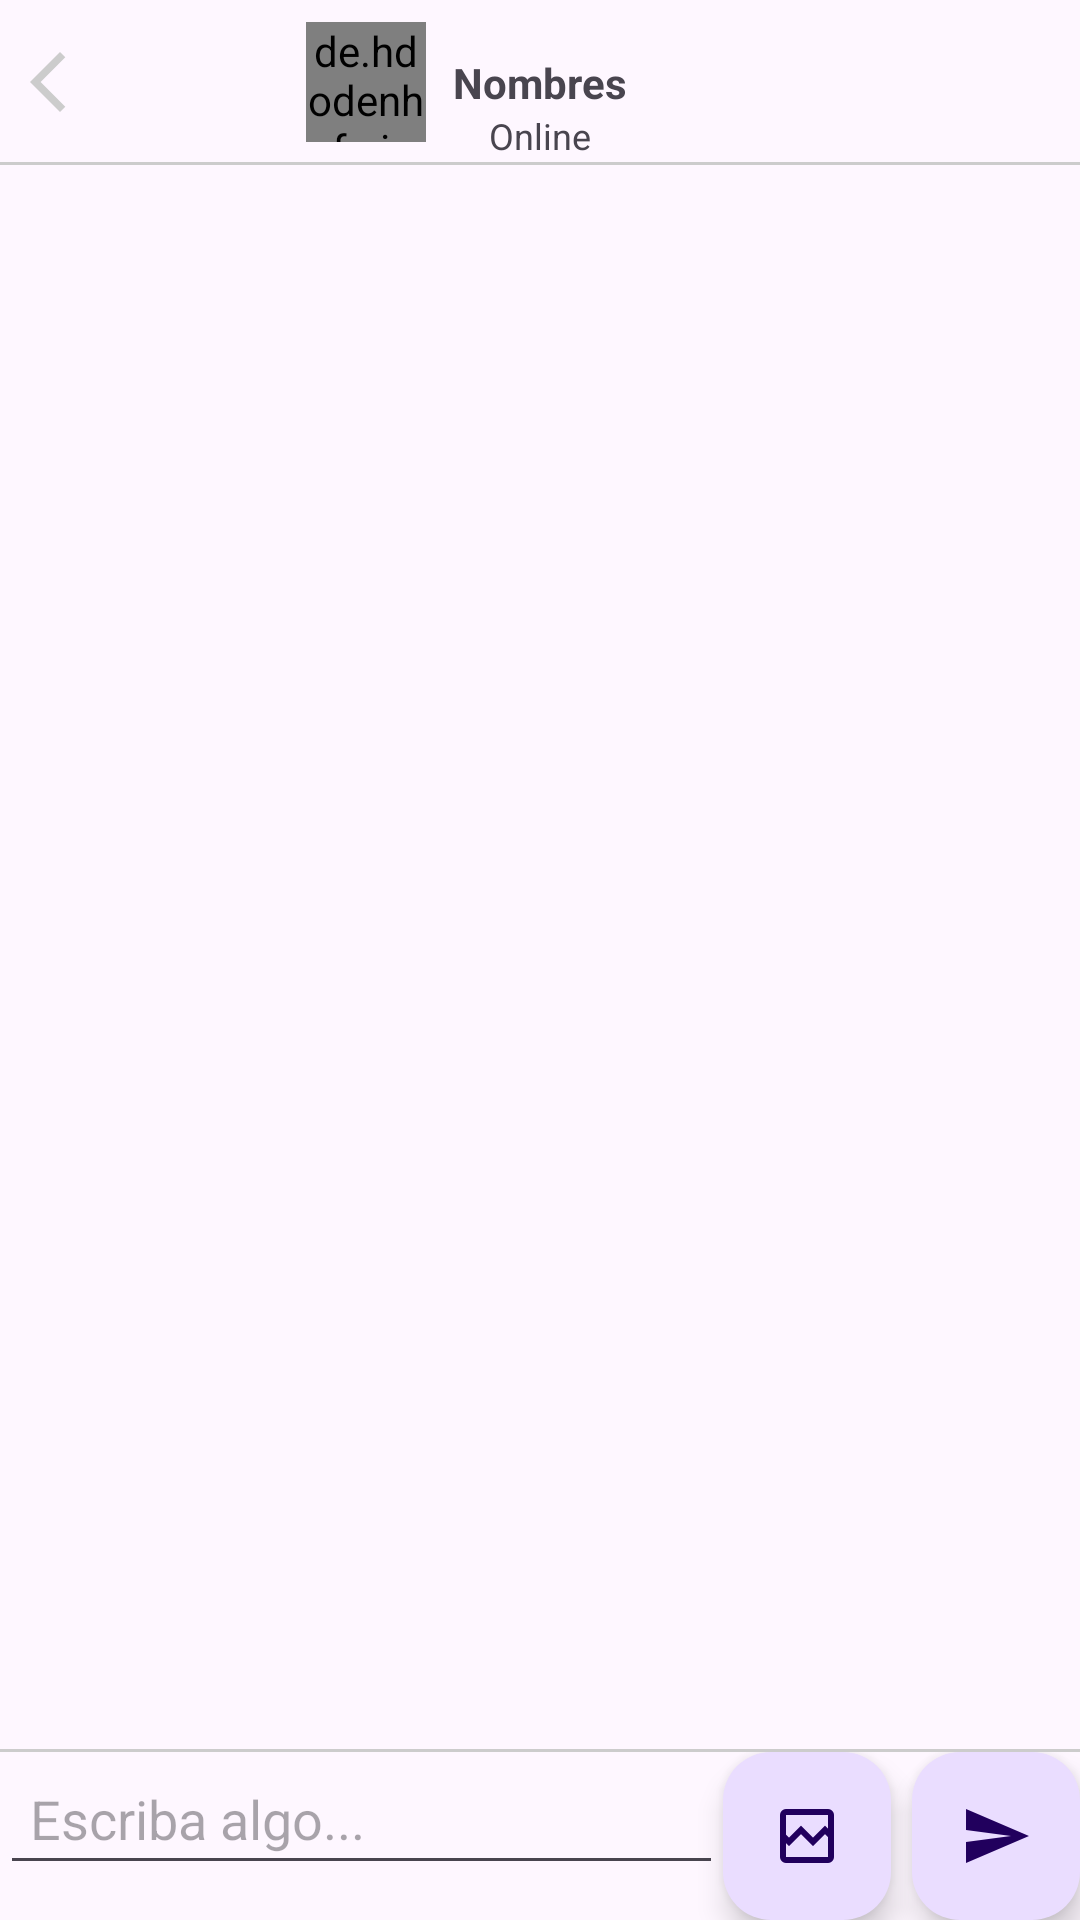

Icons on this 1080px x 1920px Android screen, each with the point to tap as (x,y):
enviar chat: (996,1836)
regresar: (47,82)
